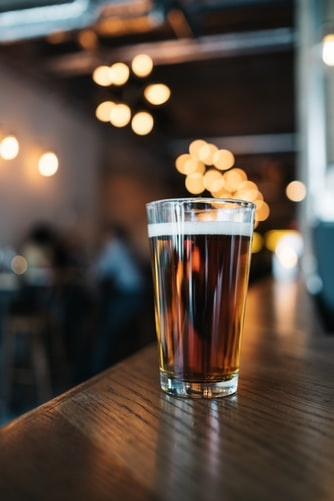whiskey: (149, 199, 261, 388)
